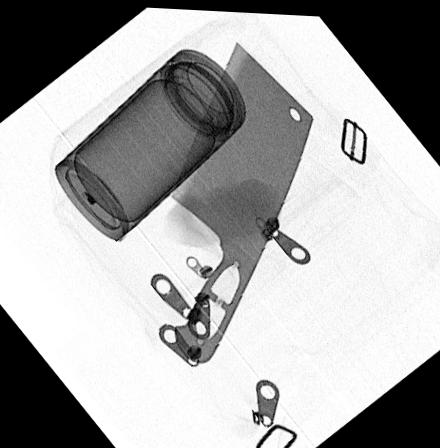Knife: (166, 36, 315, 362)
